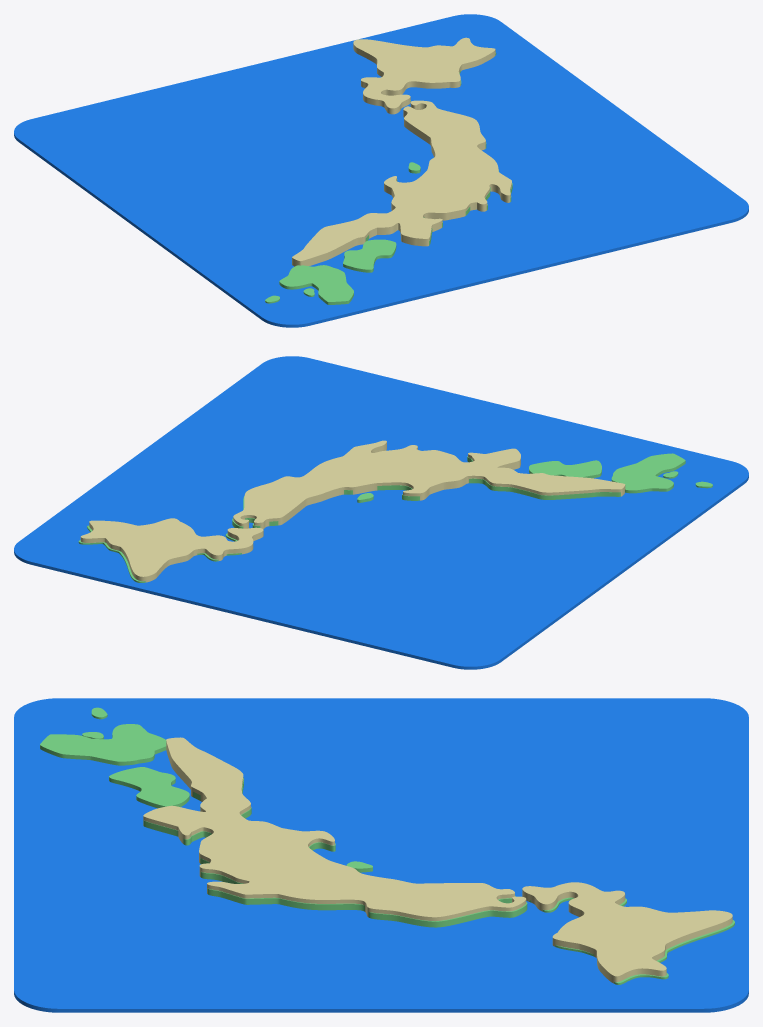
The model's file is emoji_u1f5fe.glb.
The picture shows the model from 3 angles, top to bottom: view 1: azimuth 30°, elevation 25°; view 2: azimuth 150°, elevation 25°; view 3: azimuth 270°, elevation 25°; orthographic projection. The views are drawn at different scales.
Parts seen in each view (by area): view 1: emoji_u1f5fe; view 2: emoji_u1f5fe; view 3: emoji_u1f5fe.
Part boxes in pixels (<box>): emoji_u1f5fe: <box>14,14,748,327</box>; emoji_u1f5fe: <box>14,356,748,669</box>; emoji_u1f5fe: <box>14,698,748,1012</box>.
Bounding box in the file's own units: 0.034 × 0.0012 × 0.034.
